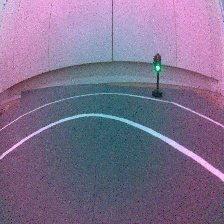green: (150, 52, 165, 100)
